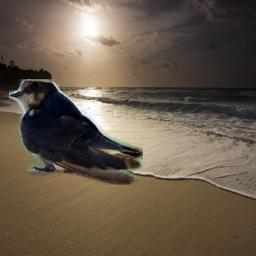Swallow: (9, 79, 143, 185)
